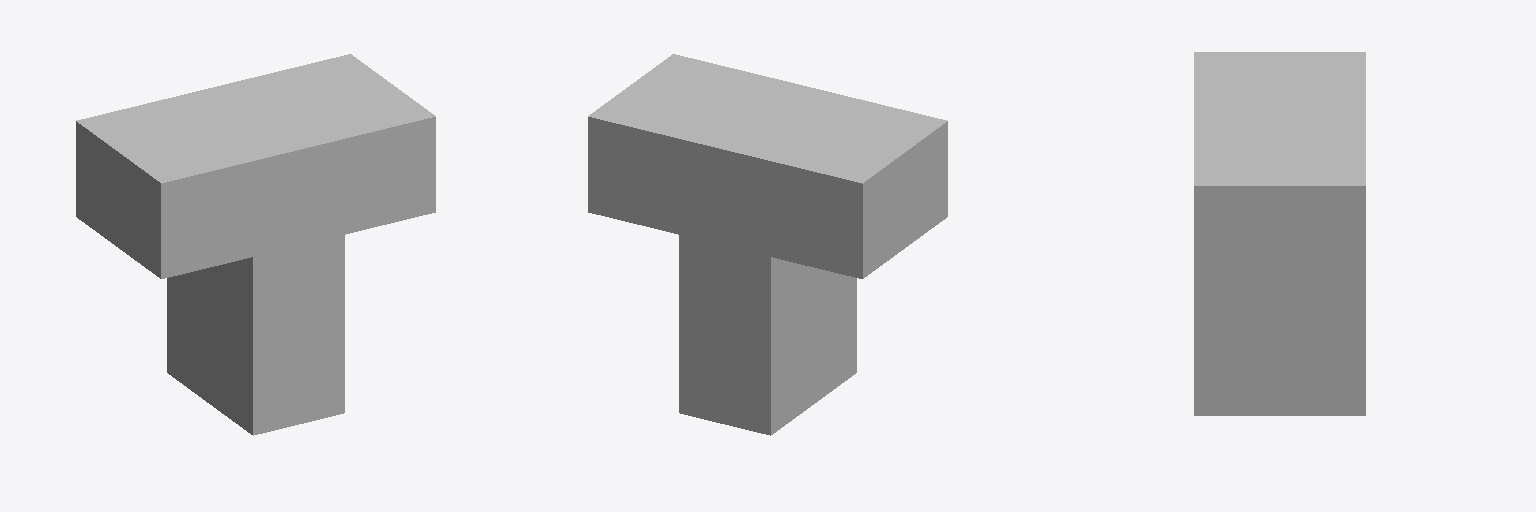
The model's file is builder-tee.obj.
The picture shows the model from 3 angles: view 1: azimuth 30°, elevation 25°; view 2: azimuth 150°, elevation 25°; view 3: azimuth 270°, elevation 25°; orthographic projection.
Parts seen in each view (by area): view 1: tee_Cube.002; view 2: tee_Cube.002; view 3: tee_Cube.002.
Boxes of the visible parts, x1,y1,x2,y2 form: tee_Cube.002: [76, 54, 435, 435]; tee_Cube.002: [588, 54, 947, 435]; tee_Cube.002: [1194, 52, 1365, 415].
Size of the model in its own units: 3.7 by 3.53 by 2.